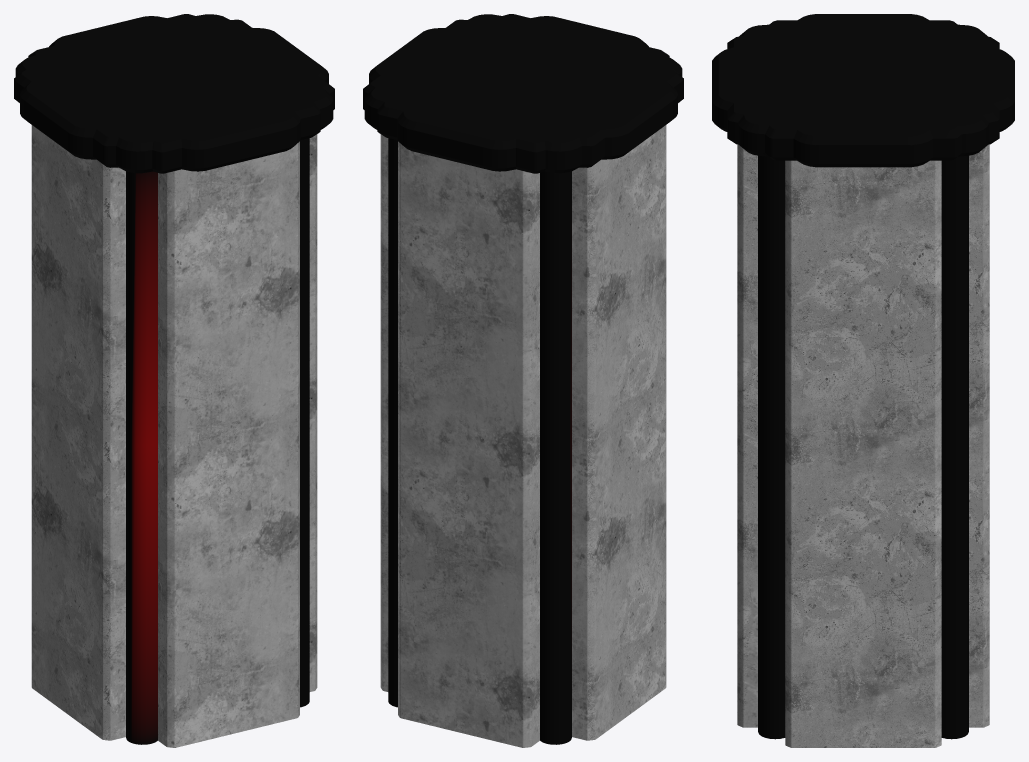
Rendered from SM_TowerPillar_01b.fbx.
3 views of the same model, side by side, from view 1: azimuth 30°, elevation 25°; view 2: azimuth 150°, elevation 25°; view 3: azimuth 270°, elevation 25° (orthographic).
Parts seen in each view (by area): view 1: SM_TowerPillar_01b_LOD0; view 2: SM_TowerPillar_01b_LOD0; view 3: SM_TowerPillar_01b_LOD0.
Part boxes in pixels (x1,y1,x2,y2): SM_TowerPillar_01b_LOD0: (14,14,334,747); SM_TowerPillar_01b_LOD0: (363,14,683,747); SM_TowerPillar_01b_LOD0: (712,14,1014,747).
Size of the model in its own units: 443 by 443 by 1000.
